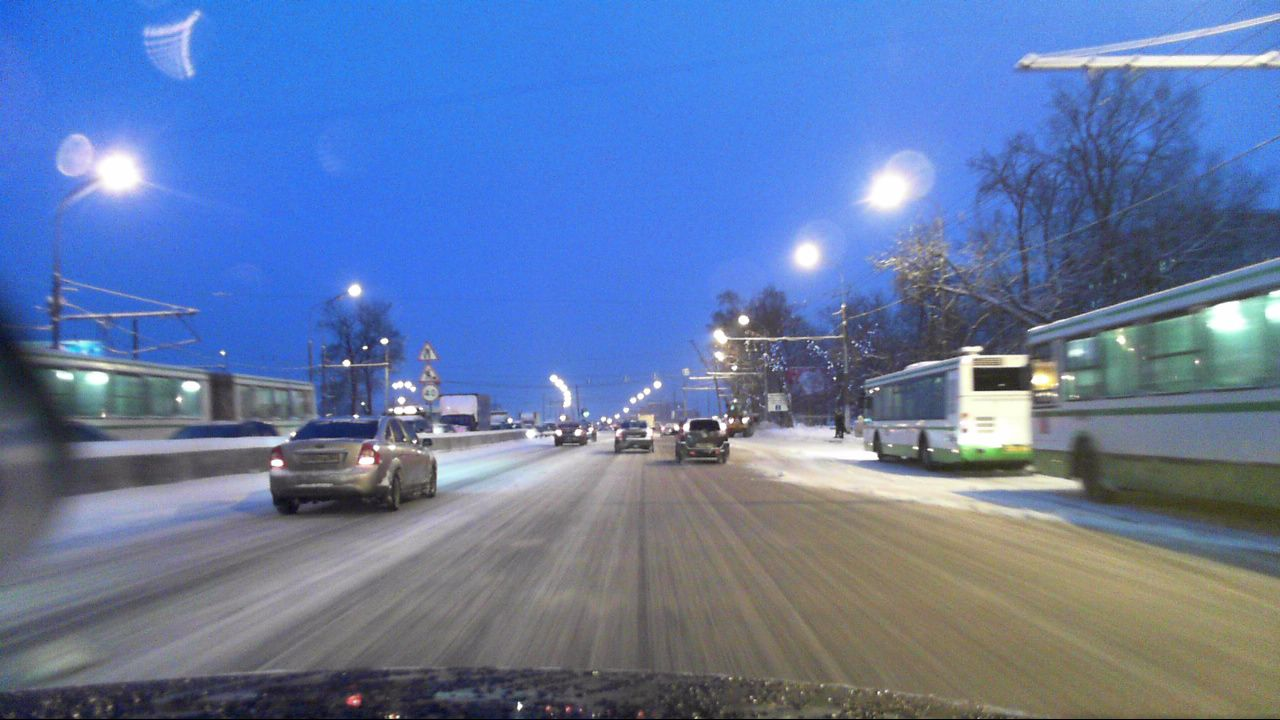speed_warning_40: (421, 381, 445, 402)
